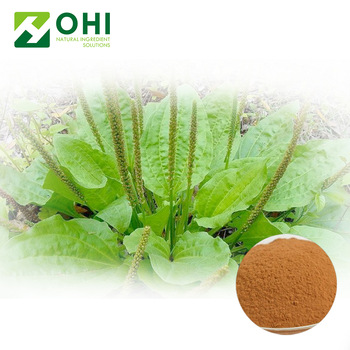buckhorn plantain: (42, 89, 308, 256)
